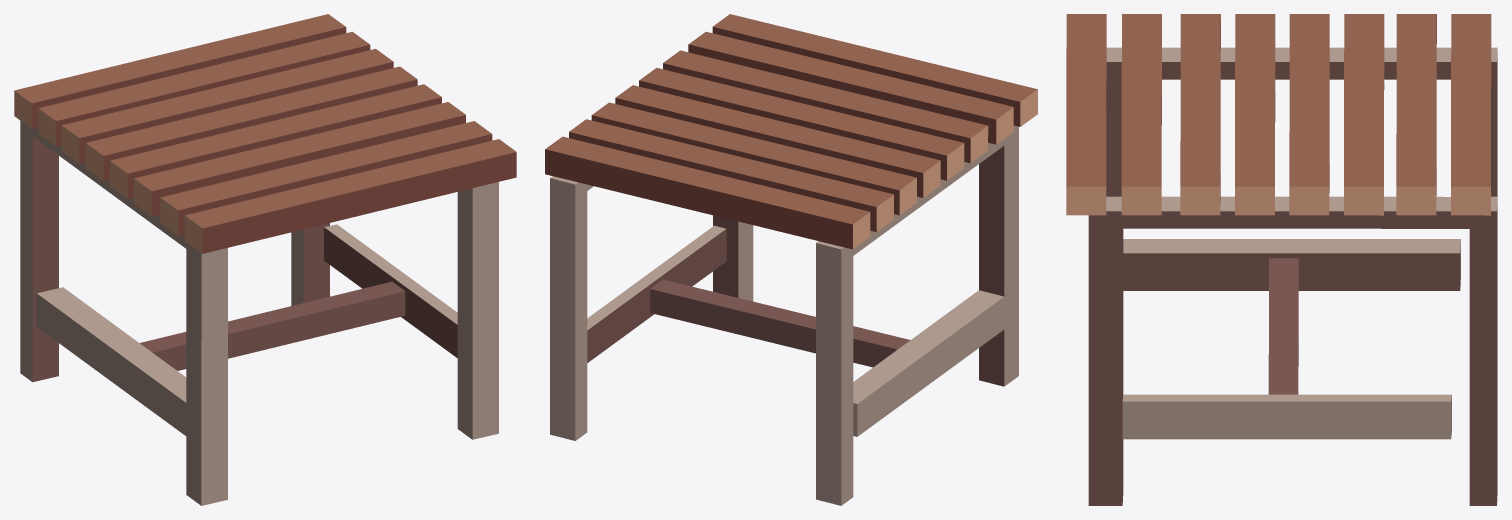
Rendered from Table.FBX.
The picture shows the model from 3 angles, left to right: view 1: azimuth 30°, elevation 25°; view 2: azimuth 150°, elevation 25°; view 3: azimuth 270°, elevation 25°; orthographic projection. The views are drawn at different scales.
Visible parts, largest first — view 1: Table; view 2: Table; view 3: Table.
Part boxes in pixels (bbox=[...]): Table: bbox=[14, 14, 516, 505]; Table: bbox=[545, 14, 1037, 505]; Table: bbox=[1066, 14, 1497, 505].
Size of the model in its own units: 82.29 by 71.87 by 86.9.
